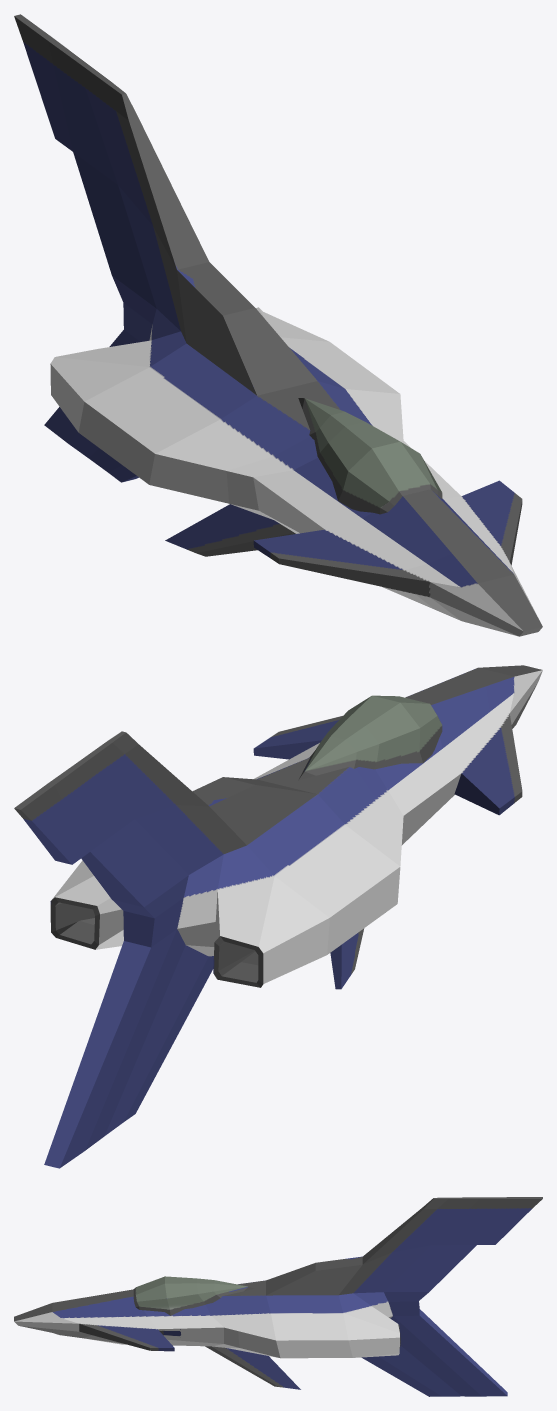
File: fishyship2.fbx
The picture shows the model from 3 angles, top to bottom: view 1: azimuth 30°, elevation 25°; view 2: azimuth 150°, elevation 25°; view 3: azimuth 270°, elevation 25°; orthographic projection. The views are drawn at different scales.
Parts seen in each view (by area): view 1: Cube; view 2: Cube; view 3: Cube.
Part boxes in pixels (x1,y1,x2,y2): Cube: [14, 14, 542, 636]; Cube: [14, 665, 542, 1168]; Cube: [14, 1197, 542, 1396].
Bounding box in the file's own units: 574 × 848 × 2064.
